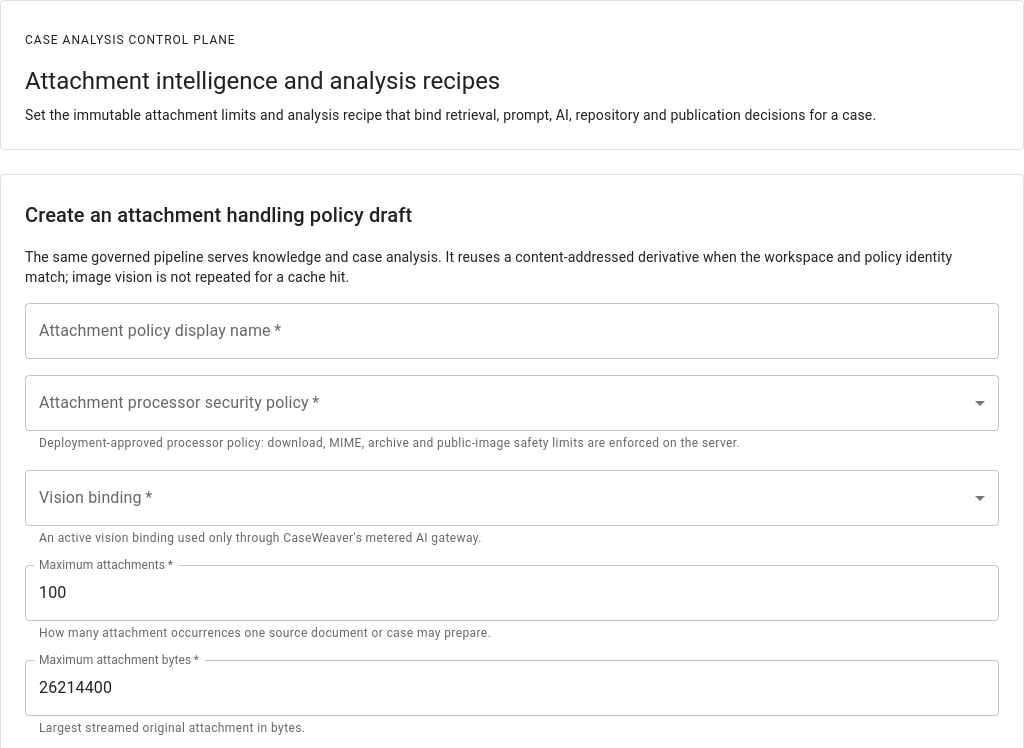
Test: RepositoryAnalysisWorkflows › offers the vision role, never the analysis role, to attachment policies
Expected: the heading "Create an attachment handling policy draft" is shown, [25,203,412,227]
Click the 2nd dropdown named "Vision binding" at (512, 498), box [25,470,999,526]
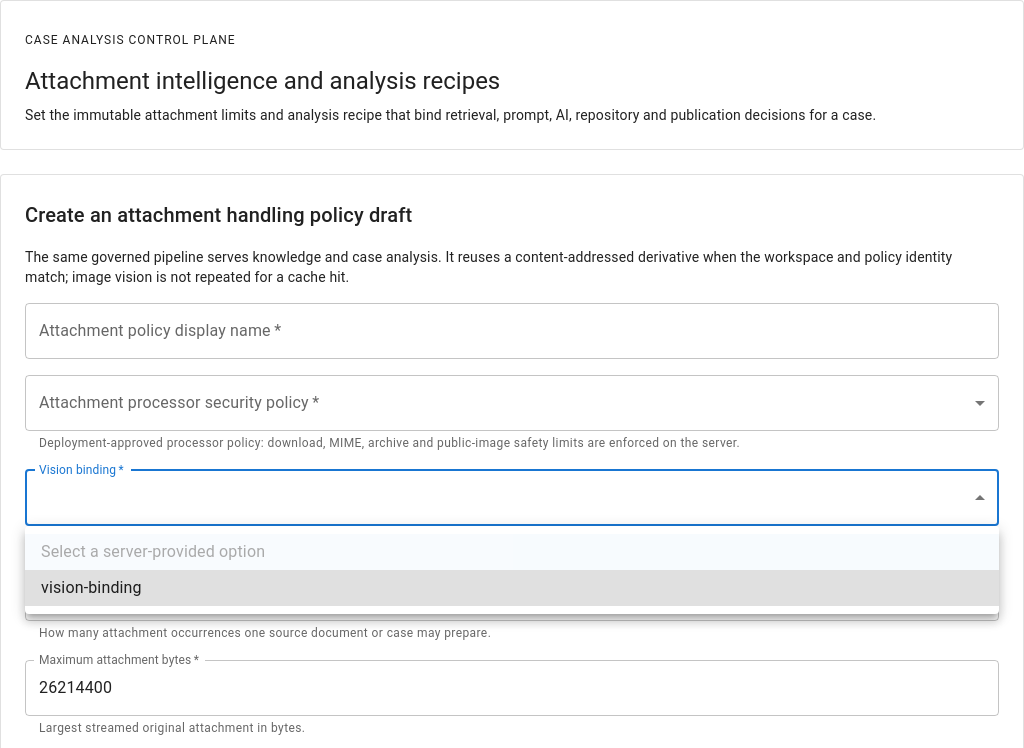
Now the option "vision-binding" is shown, box [25,570,999,606]
